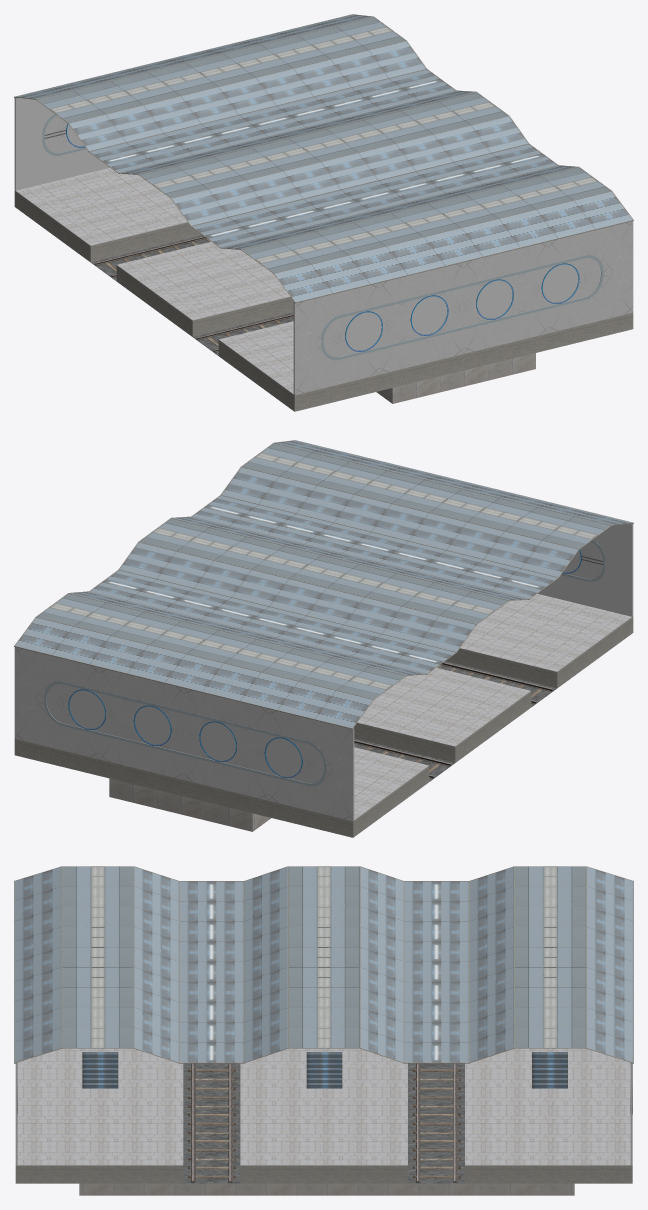
Rendered from Station03b.FBX.
3 renders of one model, top to bottom at view 1: azimuth 30°, elevation 25°; view 2: azimuth 150°, elevation 25°; view 3: azimuth 270°, elevation 25°, orthographic. The views are drawn at different scales.
Visible parts, largest first — view 1: Station03Roof03, Station03Roof01, Station03FloorUnder, Station03Wall01, Station03Roof02, Station03Wall03, Station03RoofMtl, Station03WallCircle, Station03Under, Station03WallElipse, Station03FloorWay, Station03Railway (+1 smaller); view 2: Station03Roof03, Station03Roof01, Station03FloorUnder, Station03Wall01, Station03Roof02, Station03Wall03, Station03RoofMtl, Station03WallCircle, Station03Under, Station03WallElipse, Station03FloorWay, Station03Railway (+1 smaller); view 3: Station03FloorUnder, Station03Roof03, Station03Roof01, Station03Roof02, Station03FloorWay, Station03Under, Station03Railway, Station03RoofMtl, Station03Under_Stair, Station03Wall01.
Boxes of the visible parts, x1,y1,x2,y2 form: Station03Roof03: (16, 14, 632, 301); Station03Roof01: (37, 17, 610, 272); Station03FloorUnder: (14, 167, 633, 411); Station03Wall01: (14, 98, 633, 394); Station03Roof02: (90, 69, 557, 247); Station03Wall03: (44, 115, 600, 357); Station03RoofMtl: (14, 14, 633, 303); Station03WallCircle: (67, 124, 578, 350); Station03Under: (376, 353, 535, 403); Station03WallElipse: (42, 114, 603, 360); Station03FloorWay: (91, 235, 293, 355); Station03Railway: (94, 236, 293, 352); Station03Roof03: (15, 440, 631, 727); Station03Roof01: (37, 443, 610, 698); Station03FloorUnder: (14, 594, 633, 837); Station03Wall01: (14, 523, 633, 820); Station03Roof02: (90, 495, 557, 673); Station03Wall03: (47, 541, 602, 783); Station03RoofMtl: (14, 440, 633, 729); Station03WallCircle: (69, 550, 580, 776); Station03Under: (109, 778, 271, 831); Station03WallElipse: (44, 540, 605, 786); Station03FloorWay: (354, 661, 556, 781); Station03Railway: (354, 662, 553, 778); Station03FloorUnder: (15, 1048, 632, 1183); Station03Roof03: (14, 867, 633, 1062); Station03Roof01: (62, 866, 585, 1047); Station03Roof02: (179, 881, 468, 1062); Station03FloorWay: (183, 1063, 464, 1183); Station03Under: (79, 1183, 574, 1195); Station03Railway: (188, 1063, 460, 1182); Station03RoofMtl: (14, 866, 633, 1063); Station03Under_Stair: (82, 1052, 567, 1088); Station03Wall01: (15, 1063, 632, 1165).
Size of the model in its own units: 1417 by 669 by 2040.
